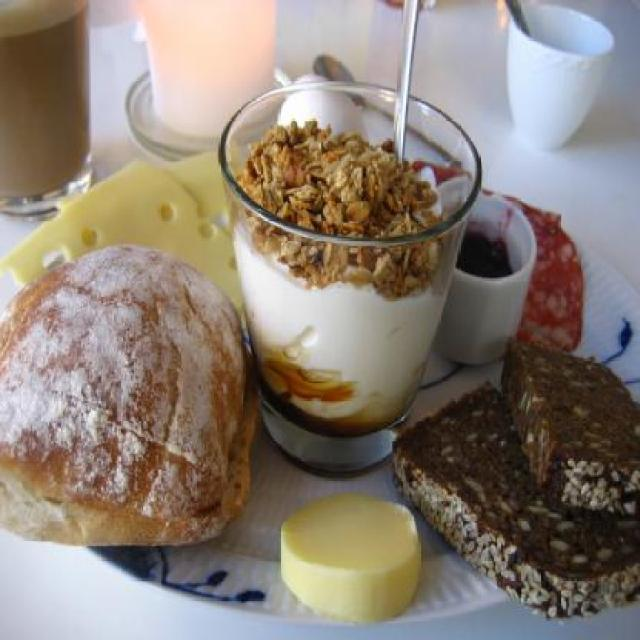Bread: (0, 234, 248, 568)
